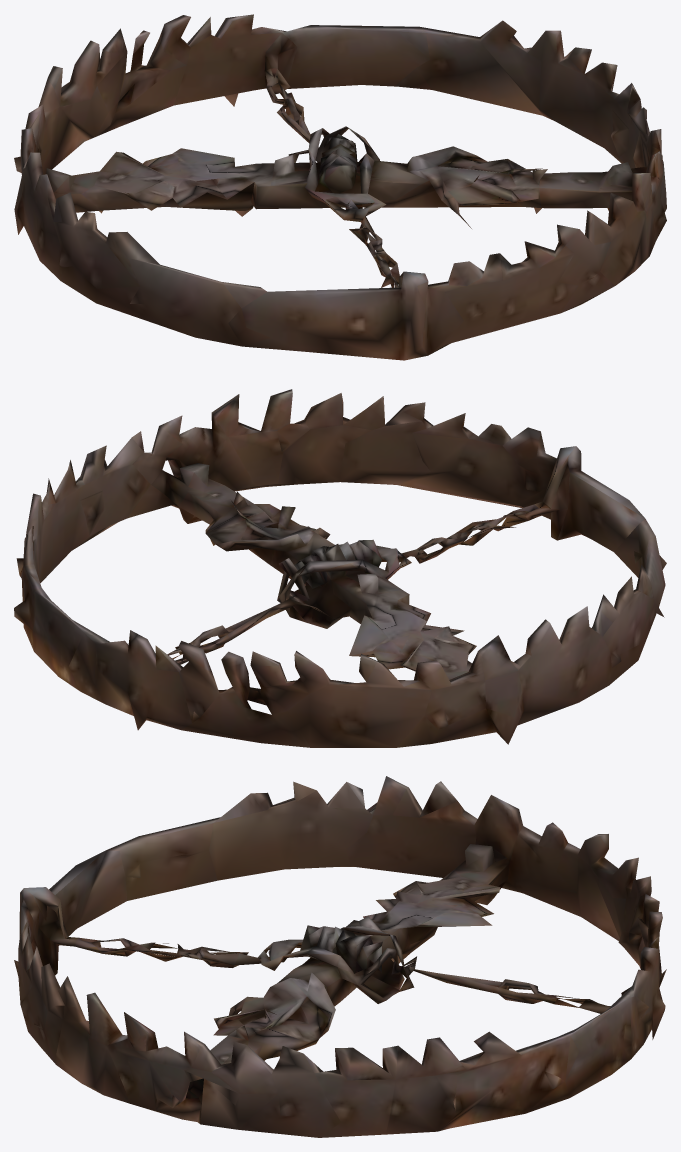
The model's file is bear_trap_lod1.glb.
The picture shows the model from 3 angles, top to bottom: view 1: azimuth 30°, elevation 25°; view 2: azimuth 150°, elevation 25°; view 3: azimuth 270°, elevation 25°; orthographic projection.
Visible parts, largest first — view 1: bear_trap; view 2: bear_trap; view 3: bear_trap.
Boxes of the visible parts, x1,y1,x2,y2 form: bear_trap: (14,14,666,360); bear_trap: (14,389,666,747); bear_trap: (14,776,666,1137).
Bounding box in the file's own units: 0.4562 × 0.0844 × 0.4579.
1 material, 1 textured.
